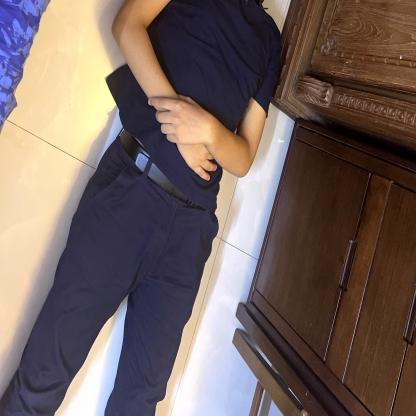hand: (145, 78, 270, 178)
